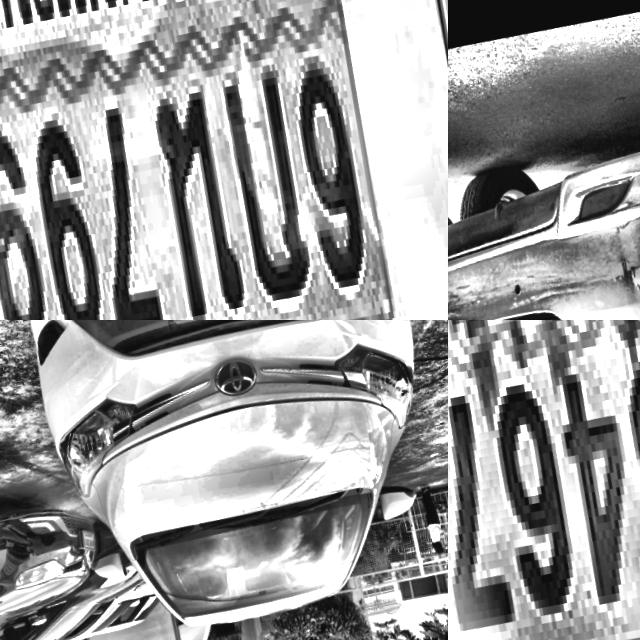license-plate: (0, 0, 448, 320), (448, 320, 640, 640)
